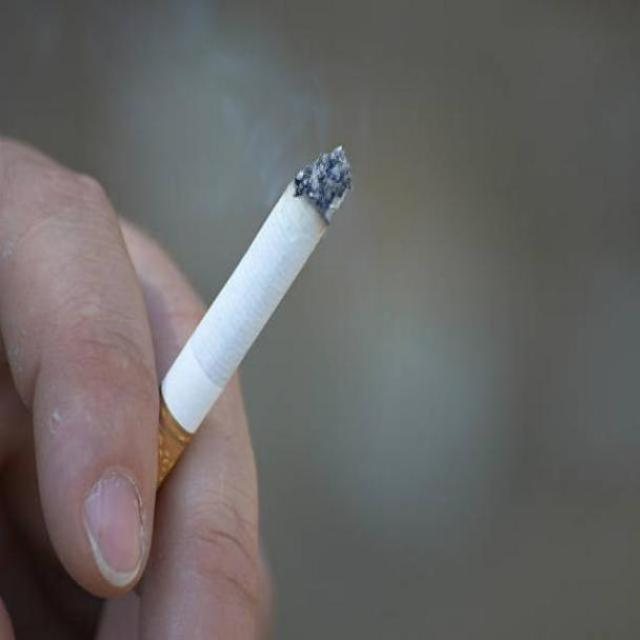rokok: (161, 140, 353, 484)
